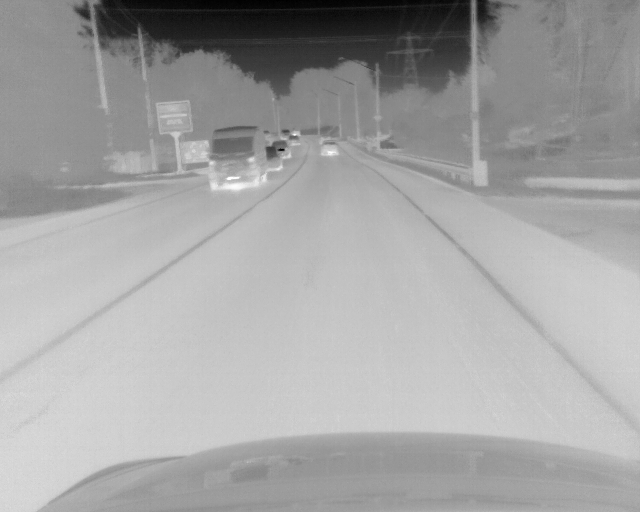car: (208, 124, 268, 191), (264, 146, 281, 173), (272, 139, 291, 161), (319, 139, 339, 158), (288, 129, 301, 149)
